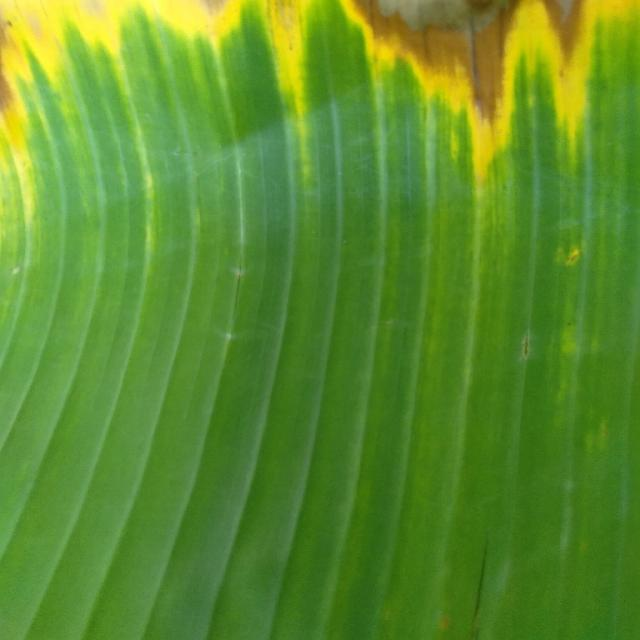Cordana: (0, 5, 640, 315)
